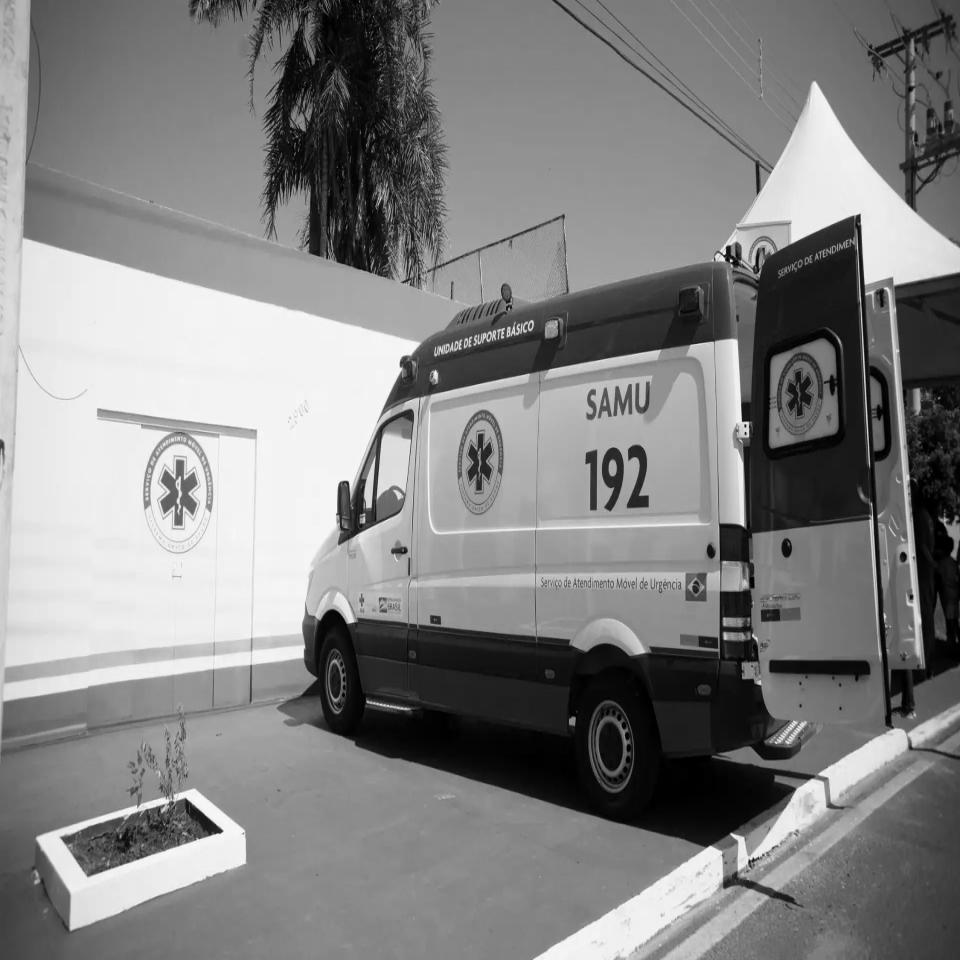ambulancia: (298, 210, 929, 823)
